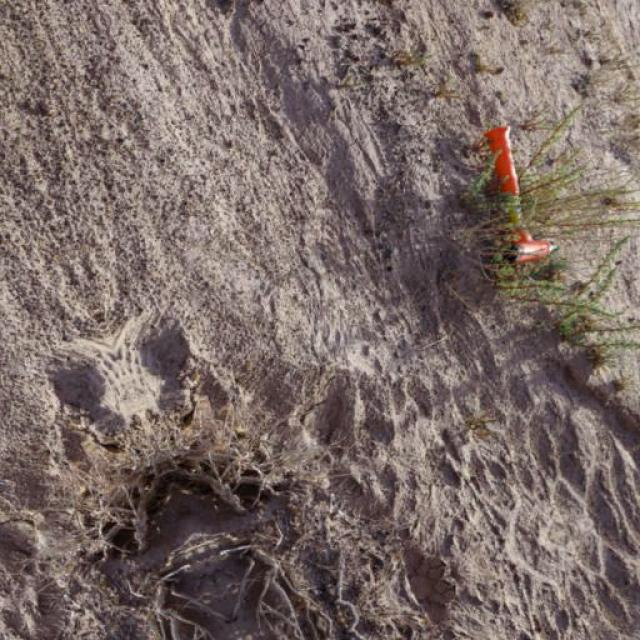mallet: (478, 124, 558, 265)
